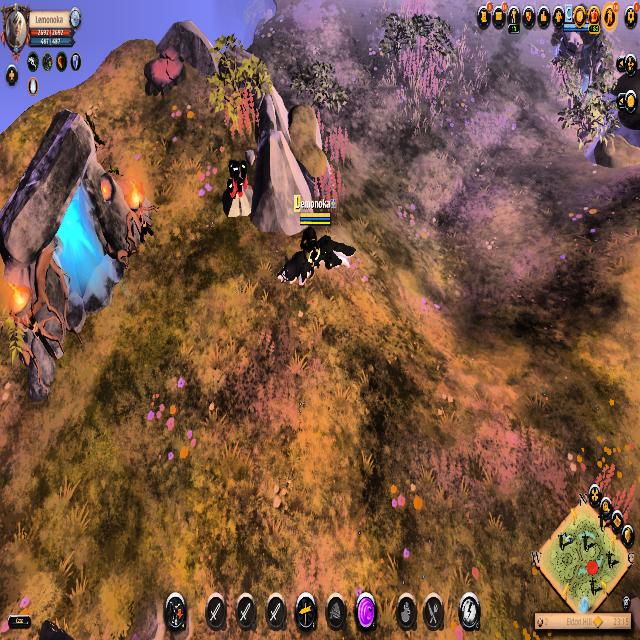ore tier 5: (221, 153, 257, 221)
